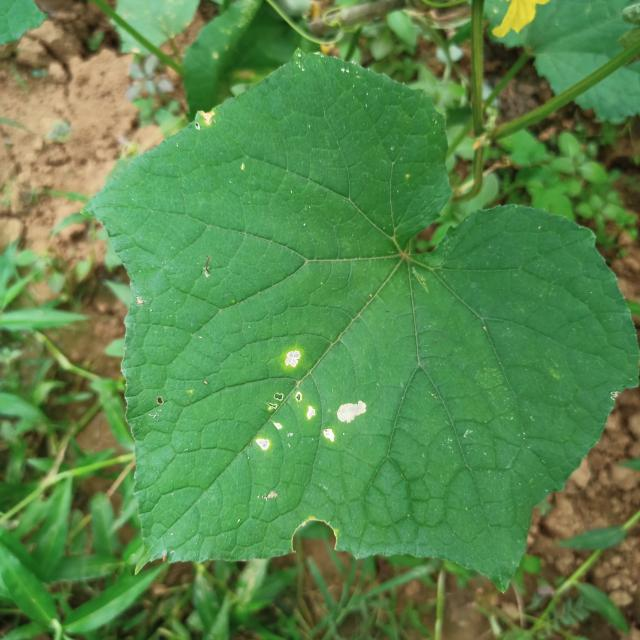disease_cucumber: (255, 343, 368, 458)
